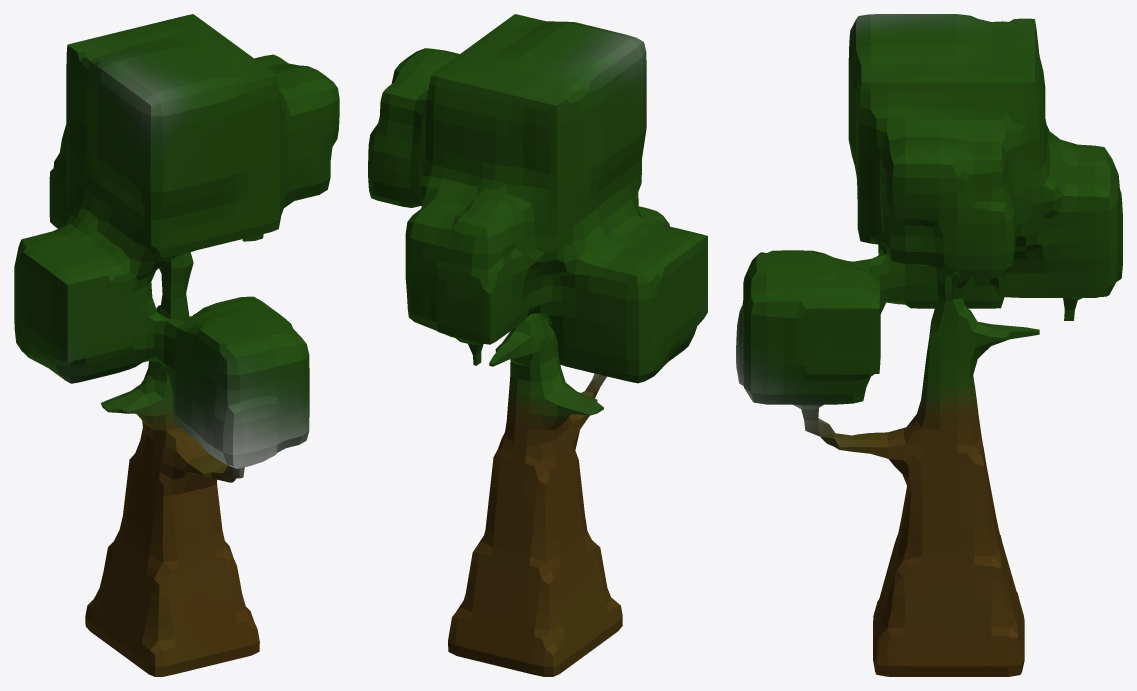
File: Boxed_5.glb
The picture shows the model from 3 angles, left to right: view 1: azimuth 30°, elevation 25°; view 2: azimuth 150°, elevation 25°; view 3: azimuth 270°, elevation 25°; orthographic projection. The views are drawn at different scales.
Visible parts, largest first — view 1: Boxed_5; view 2: Boxed_5; view 3: Boxed_5.
Part boxes in pixels (x1,y1,x2,y2): Boxed_5: [14, 14, 339, 676]; Boxed_5: [368, 14, 707, 676]; Boxed_5: [736, 14, 1122, 676].
Bounding box in the file's own units: 2.04 × 4.07 × 2.33.
